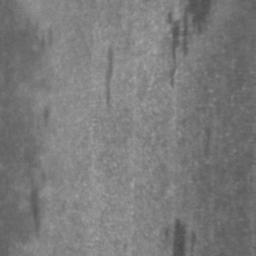Inclusion: (165, 0, 210, 56), (174, 219, 188, 256), (106, 50, 114, 102), (31, 189, 40, 223)
